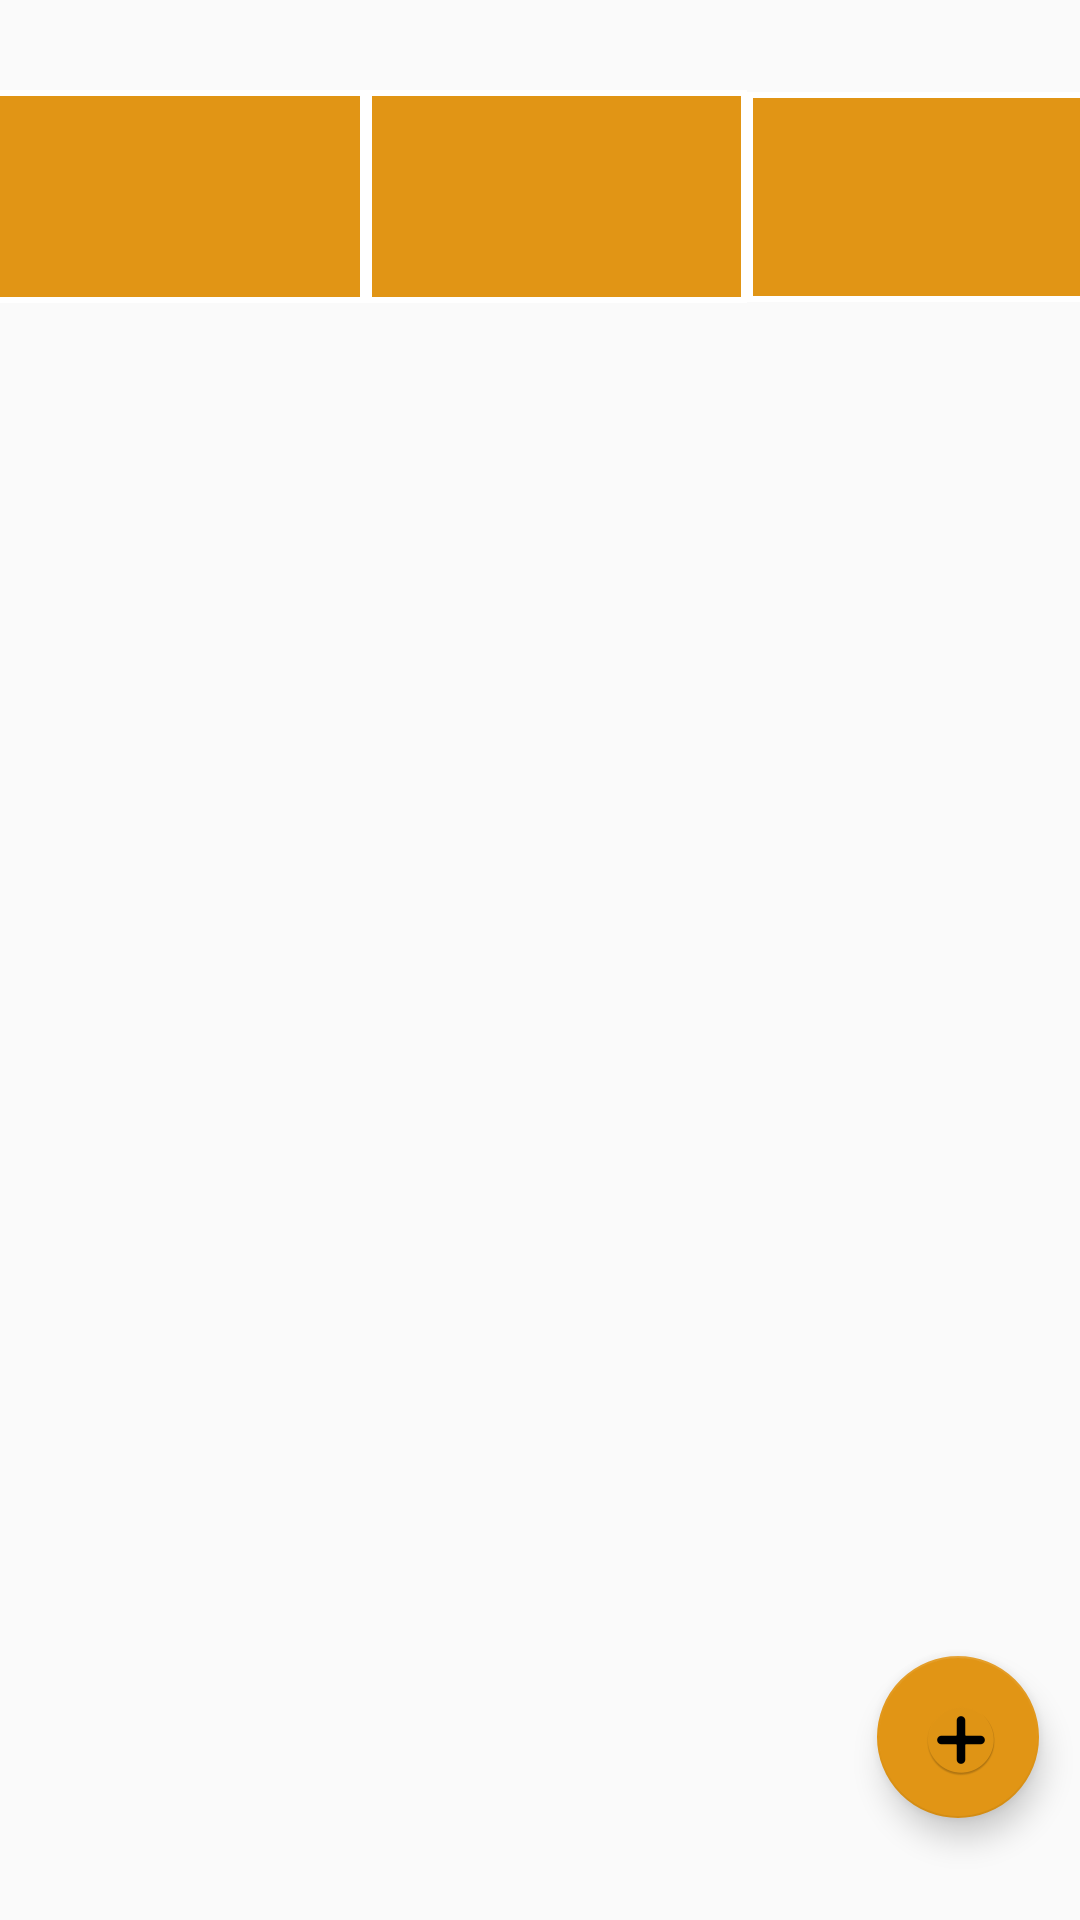

Named icons in this screenshot (1080×1920) and their centers, (x=x, y=y):
plus sign: (x=958, y=1737)
